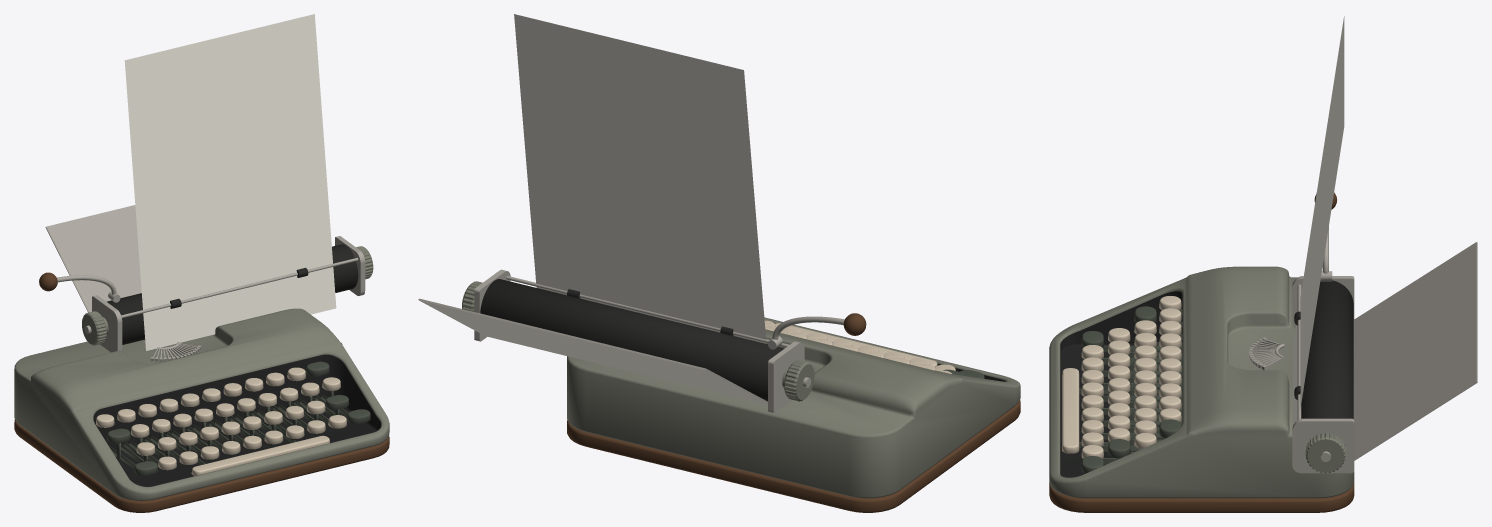
File: typewriter.glb
3 views of the same model, side by side, from view 1: azimuth 30°, elevation 25°; view 2: azimuth 150°, elevation 25°; view 3: azimuth 270°, elevation 25° (orthographic). The views are drawn at different scales.
Visible parts, largest first — view 1: Paper, Body, PaperTable, Base, PaperHolder, Platen, Key_Space, Lever, Knob_L, TypebarBasket, Key_Shift_L; view 2: Paper, Body, Platen, Base, PaperTable, PaperHolder, Lever, Knob_L; view 3: Body, PaperTable, Platen, Paper, Base, PaperHolder, Key_Space, Knob_R, TypebarBasket.
Boxes of the visible parts, <box> form: Paper: <box>124,14,336,350</box>; Body: <box>14,308,389,500</box>; PaperTable: <box>45,205,141,312</box>; Base: <box>14,419,389,512</box>; PaperHolder: <box>92,236,365,352</box>; Platen: <box>107,244,358,344</box>; Key_Space: <box>182,424,329,475</box>; Lever: <box>39,272,120,302</box>; Knob_L: <box>82,311,108,345</box>; TypebarBasket: <box>150,342,201,361</box>; Key_Shift_L: <box>109,445,157,476</box>; Paper: <box>514,14,766,343</box>; Body: <box>567,317,1020,498</box>; Platen: <box>480,279,784,401</box>; Base: <box>567,399,1020,512</box>; PaperTable: <box>418,298,767,404</box>; PaperHolder: <box>474,269,804,413</box>; Lever: <box>768,313,866,349</box>; Knob_L: <box>782,360,814,401</box>; Body: <box>1049,266,1354,498</box>; PaperTable: <box>1353,242,1477,460</box>; Platen: <box>1301,280,1353,418</box>; Paper: <box>1293,16,1344,425</box>; Base: <box>1049,482,1354,512</box>; PaperHolder: <box>1292,276,1354,473</box>; Key_Space: <box>1062,368,1110,453</box>; Knob_R: <box>1305,432,1345,473</box>; TypebarBasket: <box>1249,337,1284,370</box>.
Size of the model in its own units: 0.3908 by 0.3591 by 0.3402.
